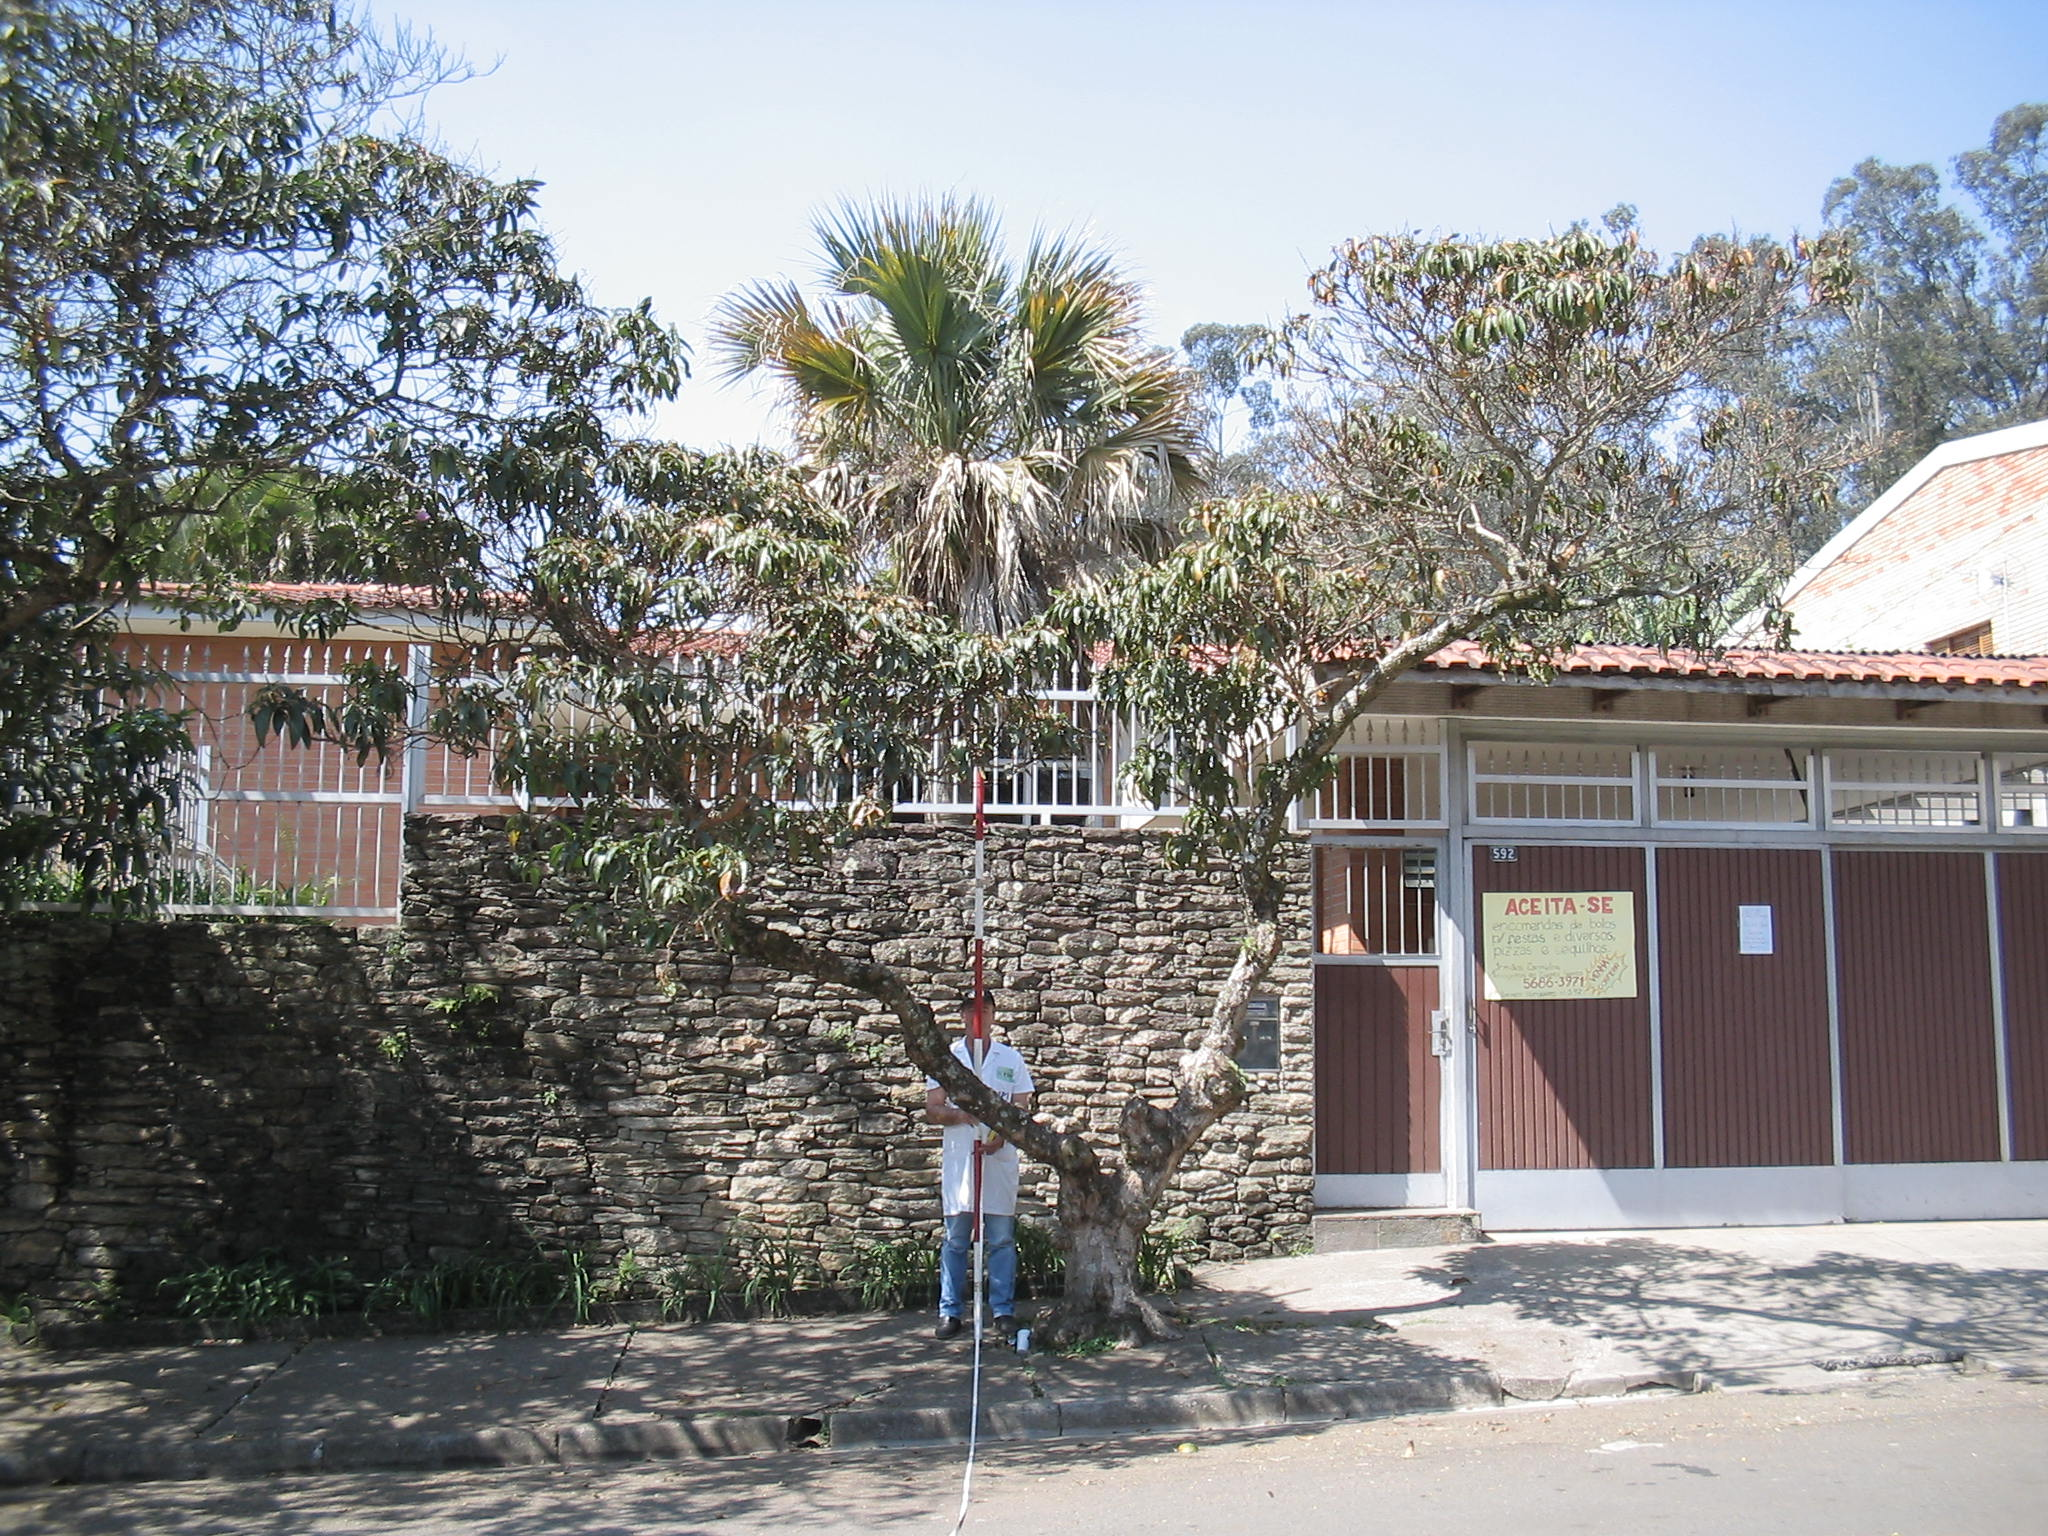crown: (268, 232, 1869, 971)
stem: (1021, 1171, 1197, 1344)
stick: (943, 766, 1014, 1347)
tree: (255, 227, 1872, 1350)
